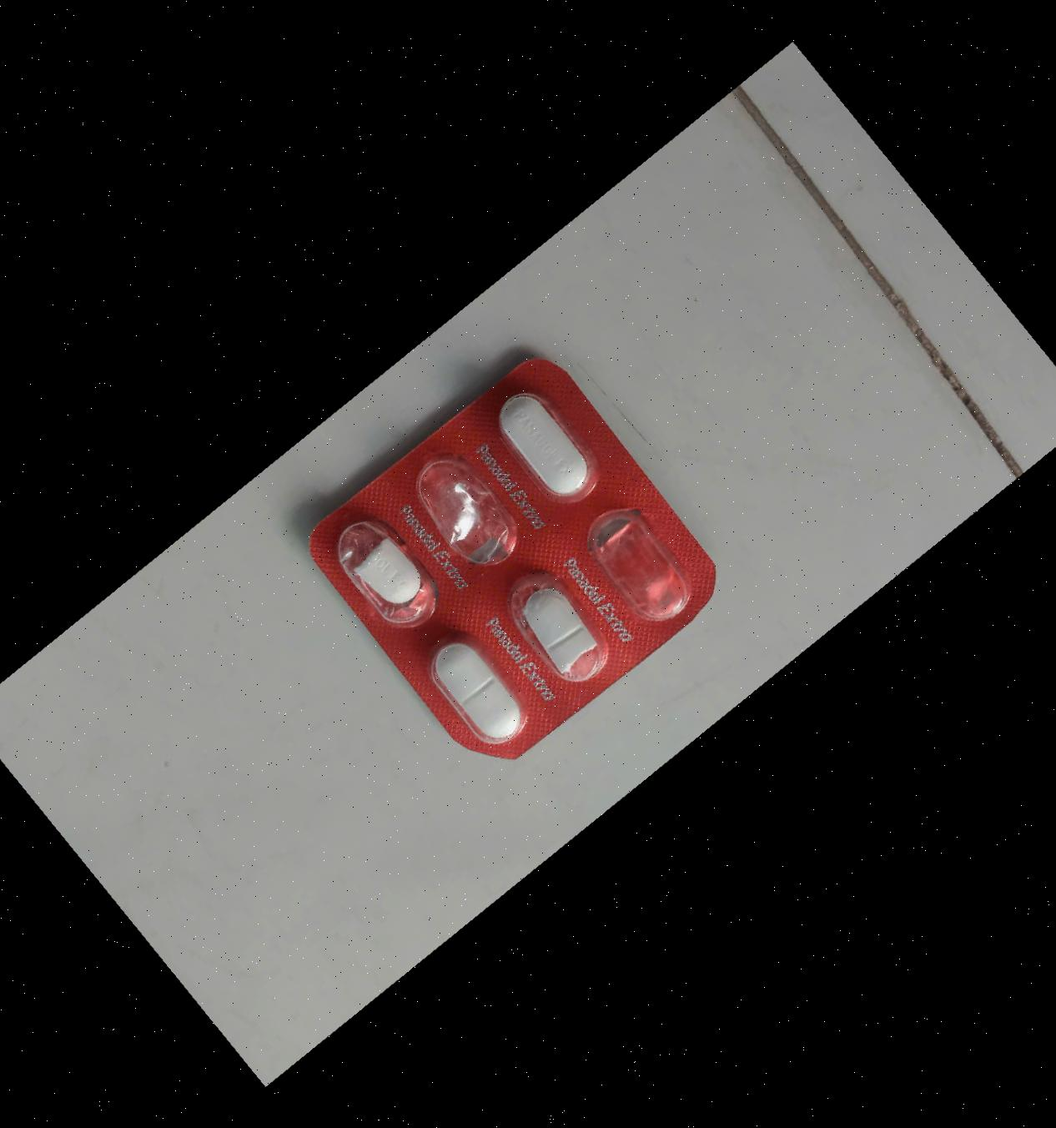Empty: (395, 439, 530, 584), (571, 490, 706, 634)
Full: (408, 615, 543, 760), (474, 374, 609, 518)
Partial: (319, 499, 454, 643), (491, 555, 625, 699)
